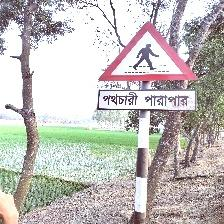Pedestrian-crossing: (96, 20, 199, 114)
